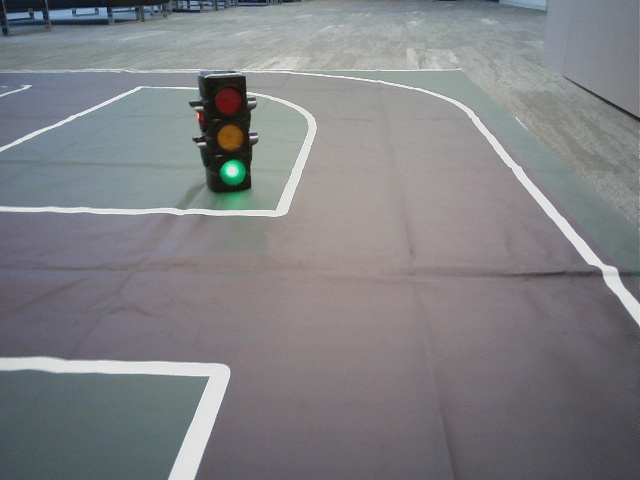green: (206, 80, 252, 189)
